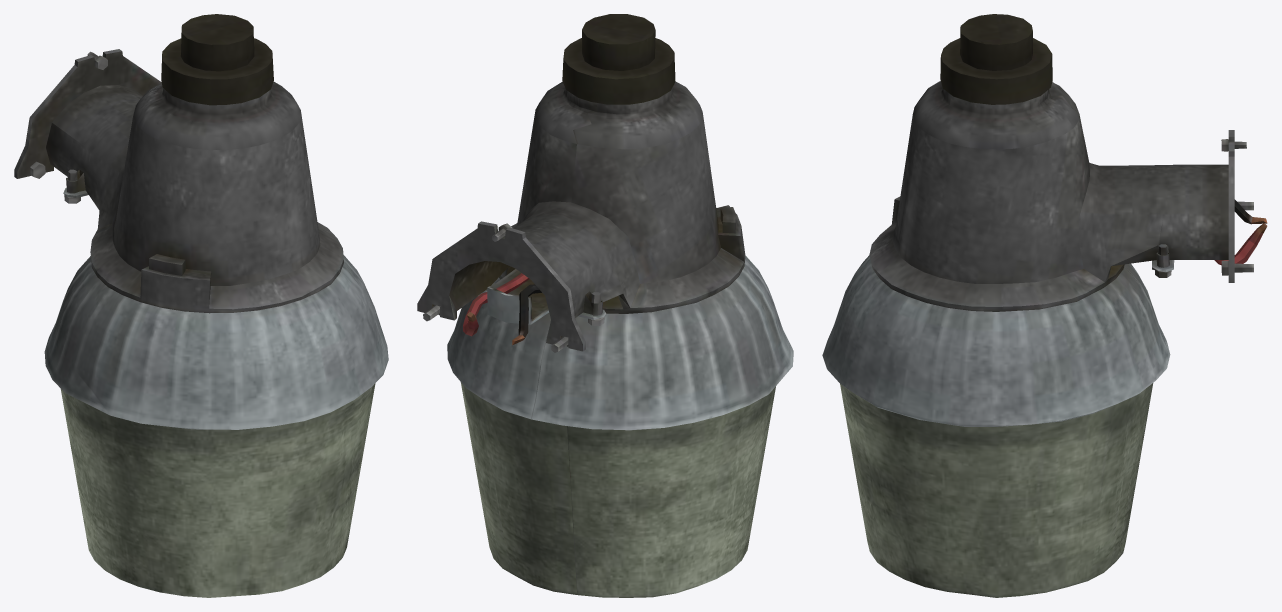
The model's file is security_light.glb.
The picture shows the model from 3 angles, left to right: view 1: azimuth 30°, elevation 25°; view 2: azimuth 150°, elevation 25°; view 3: azimuth 270°, elevation 25°; orthographic projection.
Visible parts, largest first — view 1: security_light; view 2: security_light; view 3: security_light.
Part boxes in pixels (x1,y1,x2,y2): security_light: (14, 14, 388, 597); security_light: (417, 14, 793, 597); security_light: (822, 14, 1267, 597).
Size of the model in its own units: 0.3225 by 0.531 by 0.4168.
1 material, 1 textured.
